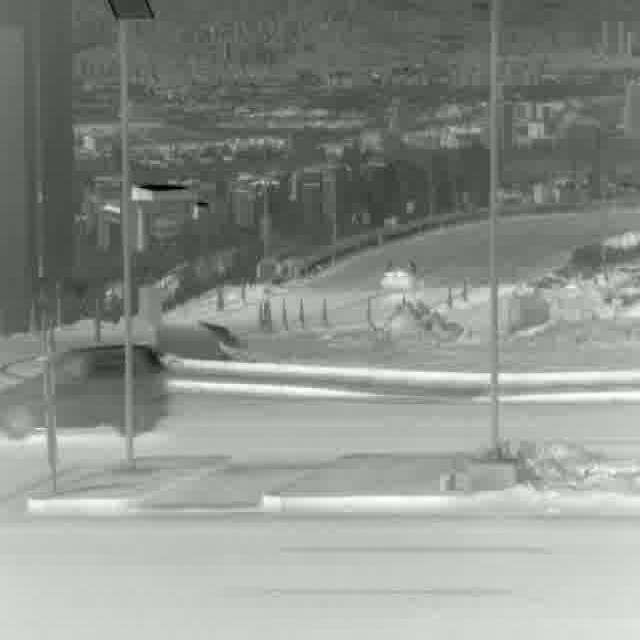Car: (1, 338, 162, 446), (380, 256, 420, 295)
